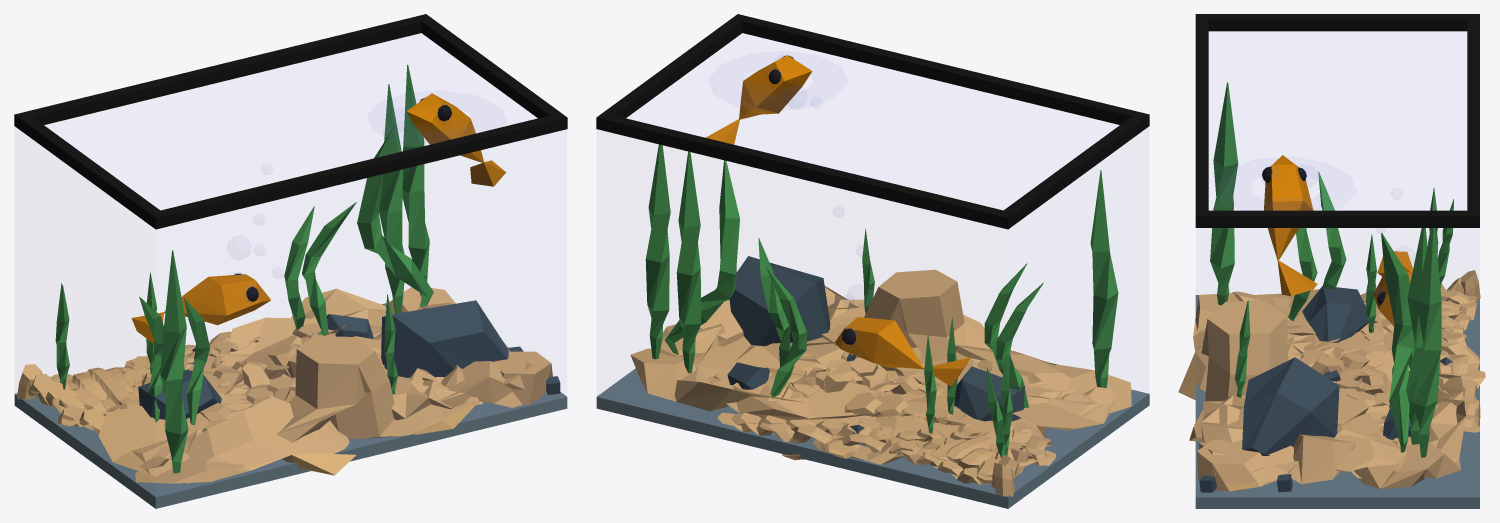
3 renders of one model, left to right at view 1: azimuth 30°, elevation 25°; view 2: azimuth 150°, elevation 25°; view 3: azimuth 270°, elevation 25°, orthographic.
Parts seen in each view (by area): view 1: node_MeshObject-392820224-PolyPaper18, node_MeshObject-1430260352-PolyPaper16, node_MeshObject-267845760-PolyPaper10; view 2: node_MeshObject-392820224-PolyPaper18, node_MeshObject-1430260352-PolyPaper16, node_MeshObject-267845760-PolyPaper10; view 3: node_MeshObject-392820224-PolyPaper18, node_MeshObject-1430260352-PolyPaper16, node_MeshObject-267845760-PolyPaper10.
Part boxes in pixels (x1,y1,x2,y2): node_MeshObject-392820224-PolyPaper18: (98,64,560,483); node_MeshObject-1430260352-PolyPaper16: (14,14,567,508); node_MeshObject-267845760-PolyPaper10: (55,93,505,473); node_MeshObject-392820224-PolyPaper18: (630,144,1131,464); node_MeshObject-1430260352-PolyPaper16: (596,14,1149,508); node_MeshObject-267845760-PolyPaper10: (665,55,1118,457); node_MeshObject-392820224-PolyPaper18: (1178,228,1485,492); node_MeshObject-1430260352-PolyPaper16: (1195,14,1480,508); node_MeshObject-267845760-PolyPaper10: (1210,82,1453,452).
Bounding box in the file's own units: 0.7466 × 0.5311 × 0.4756.
